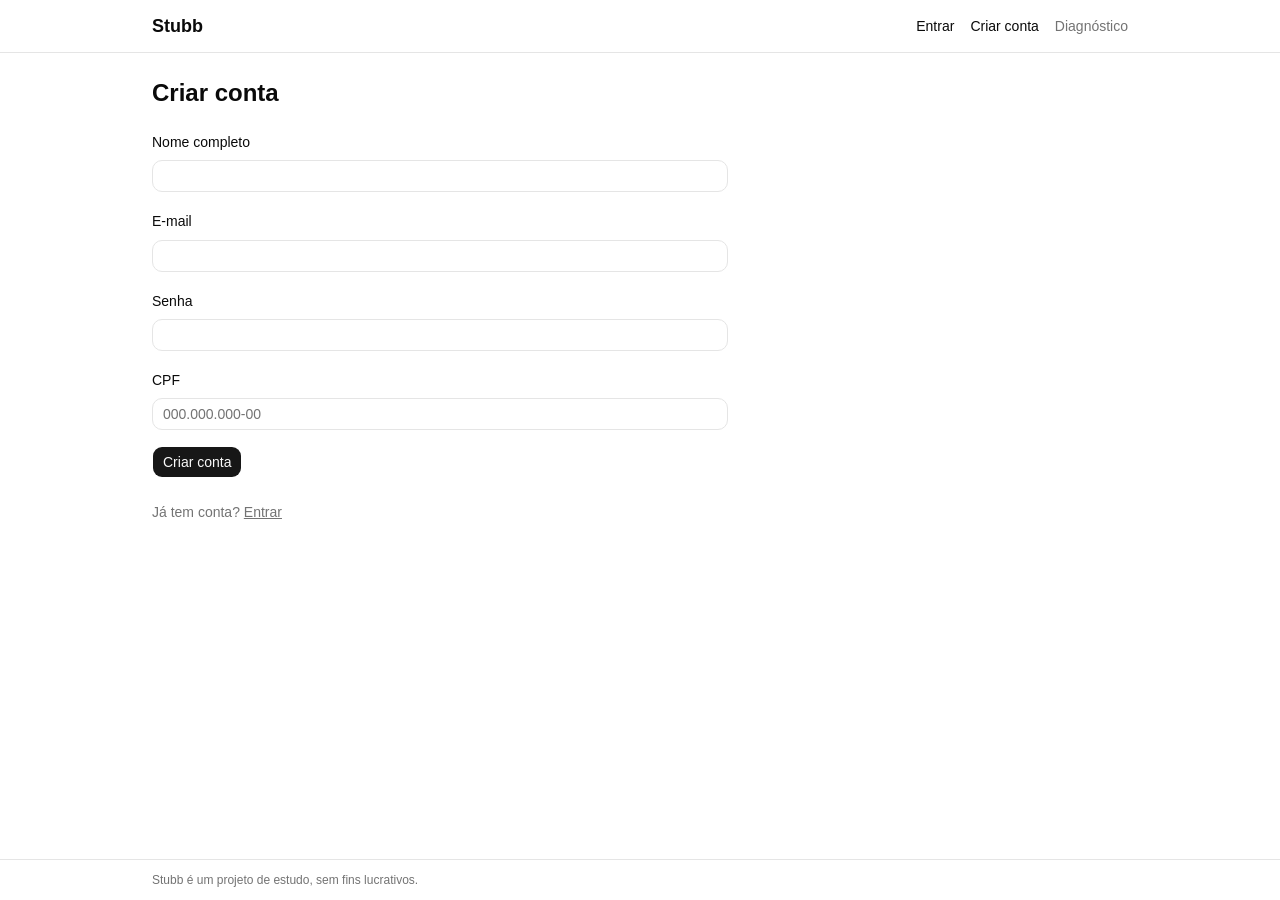
Test: RegisterPage › CPF inválido e senha curta ficam nos campos e nada é enviado
In the field labelled "Nome completo": x=440, y=176 [152,160,728,192], type "Ana Souza"
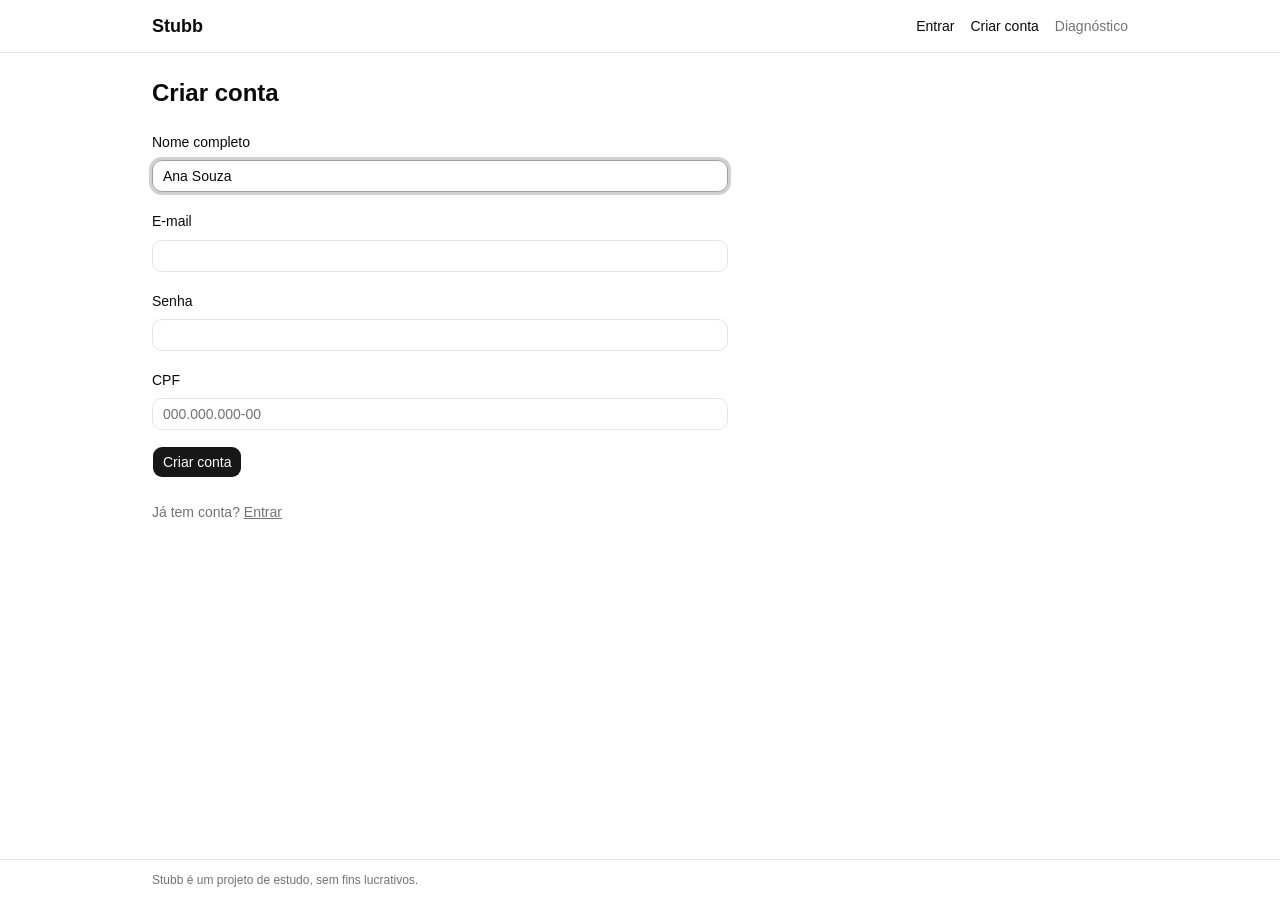
In the field labelled "E-mail": x=440, y=256 [152,240,728,272], type "Ana@Exemplo.com"
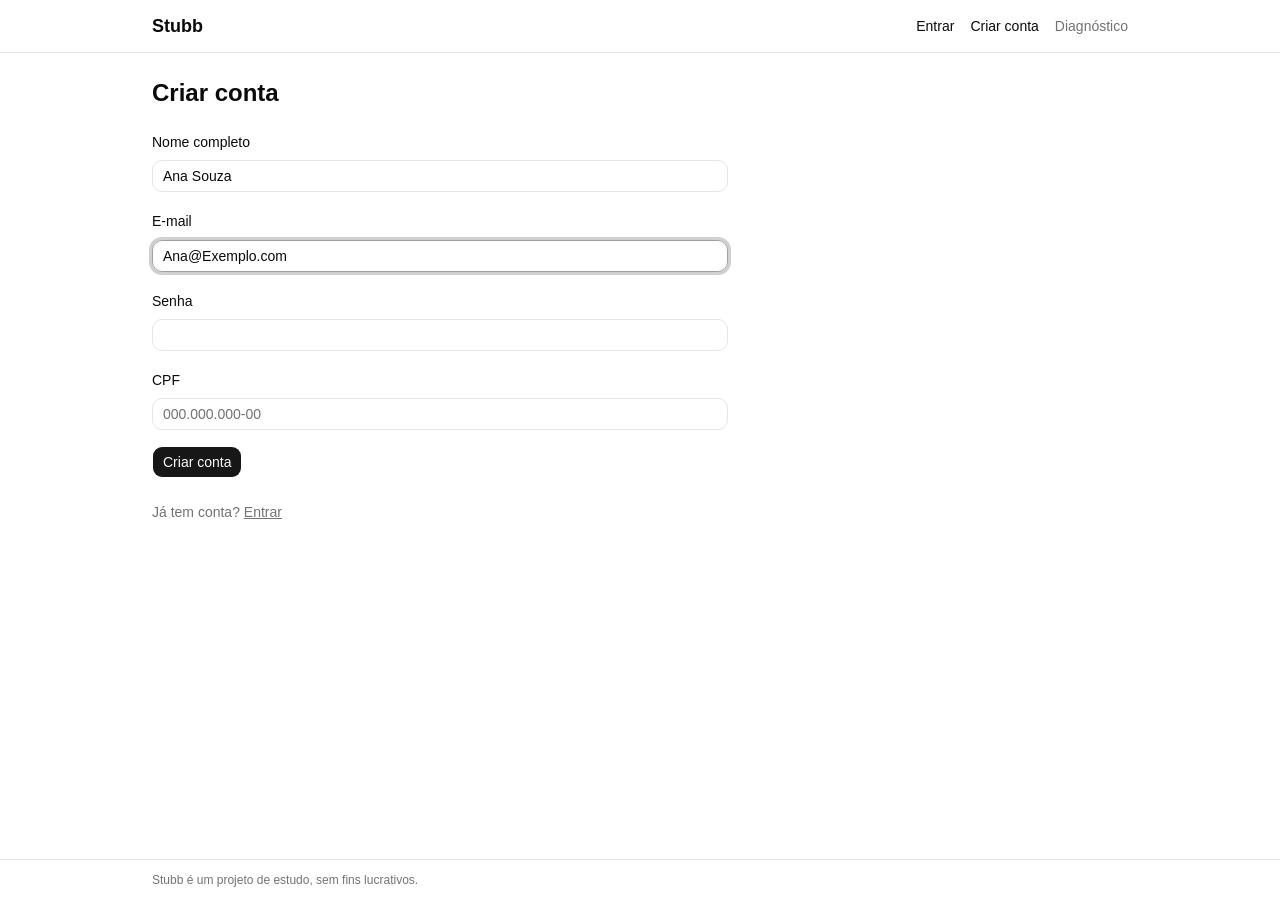
In the password field labelled "Senha": x=440, y=335 [152,319,728,351], type "curta"
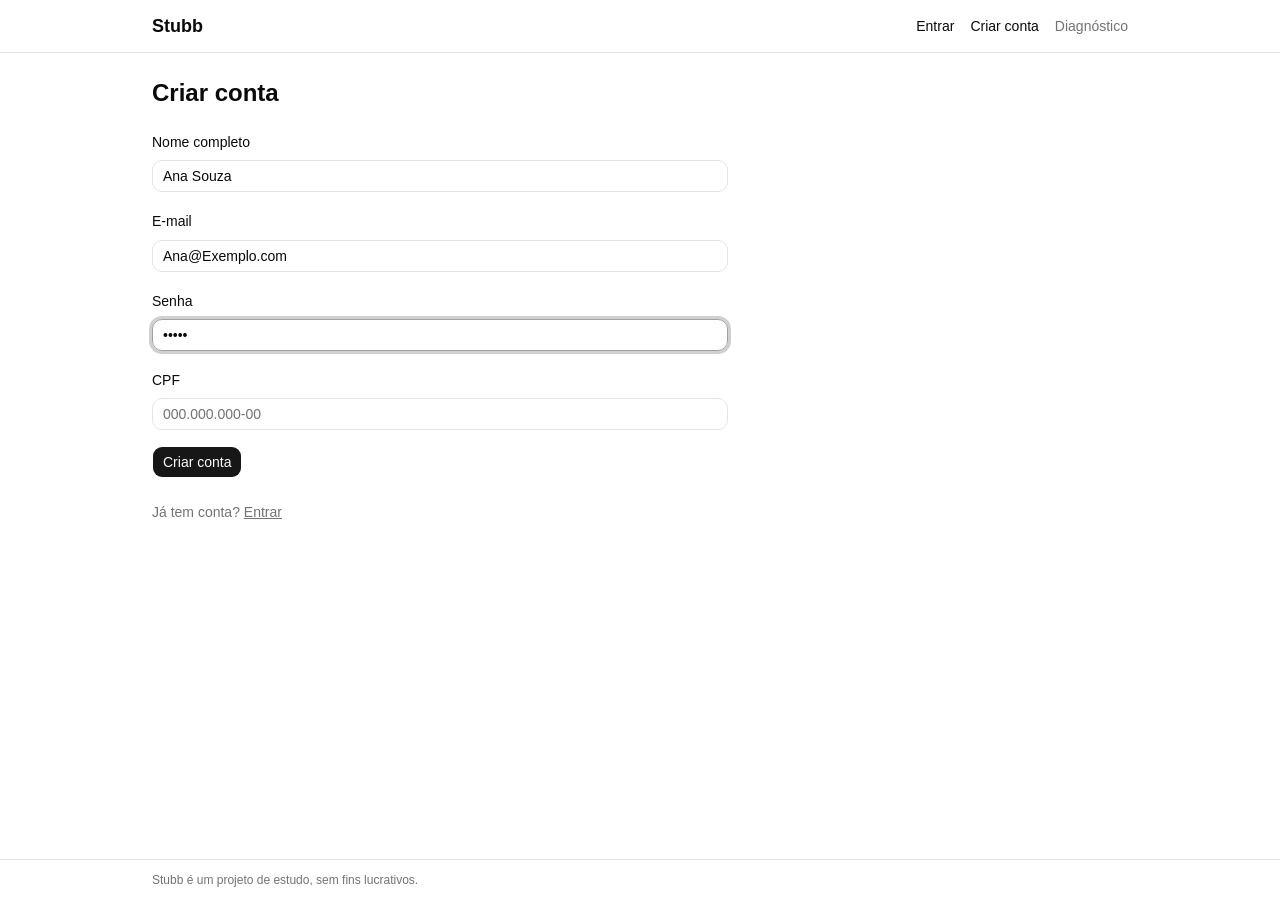
In the field labelled "CPF": x=440, y=414 [152,398,728,430], type "111.111.111-11"
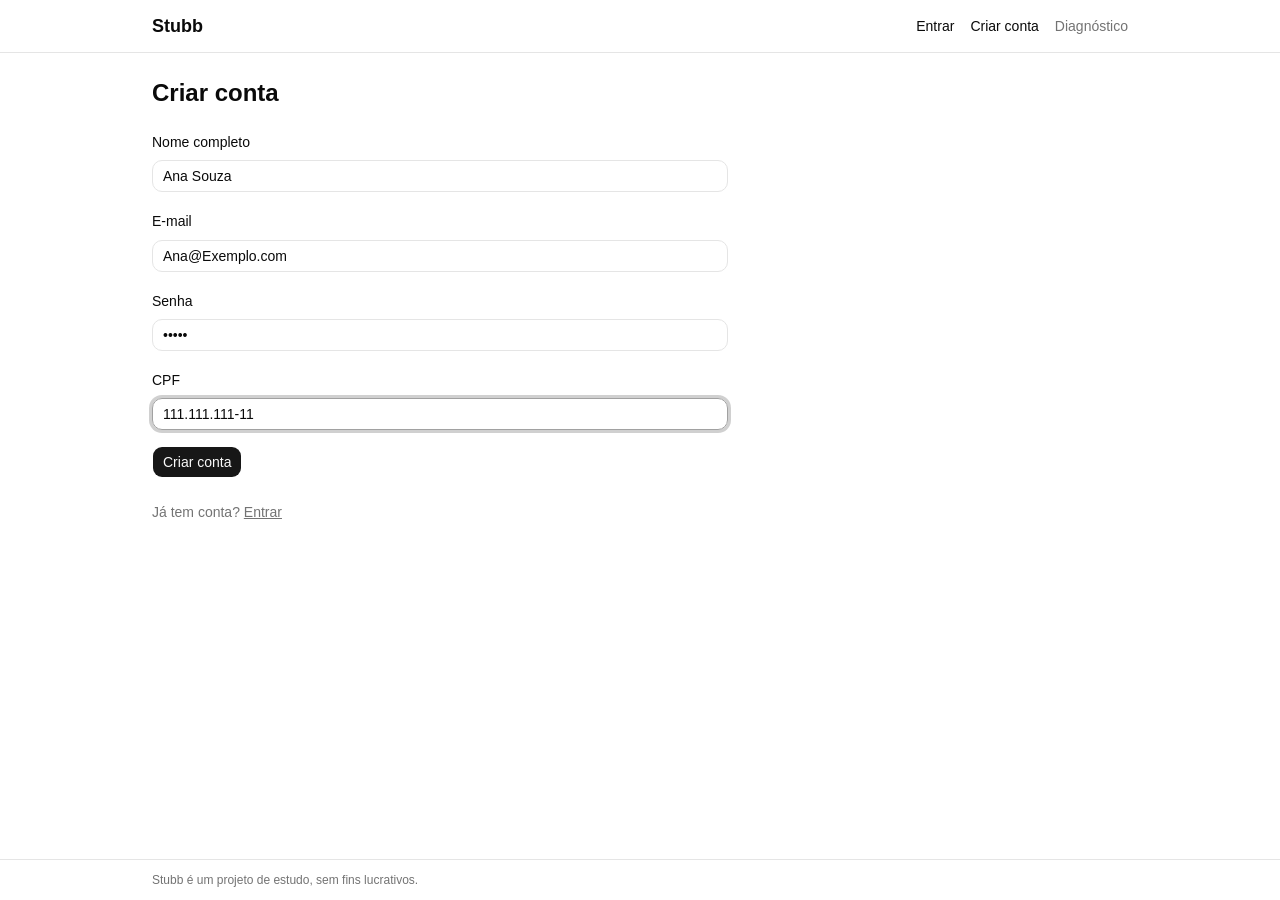
Click the button "Criar conta": x=197, y=462 [152,446,242,478]
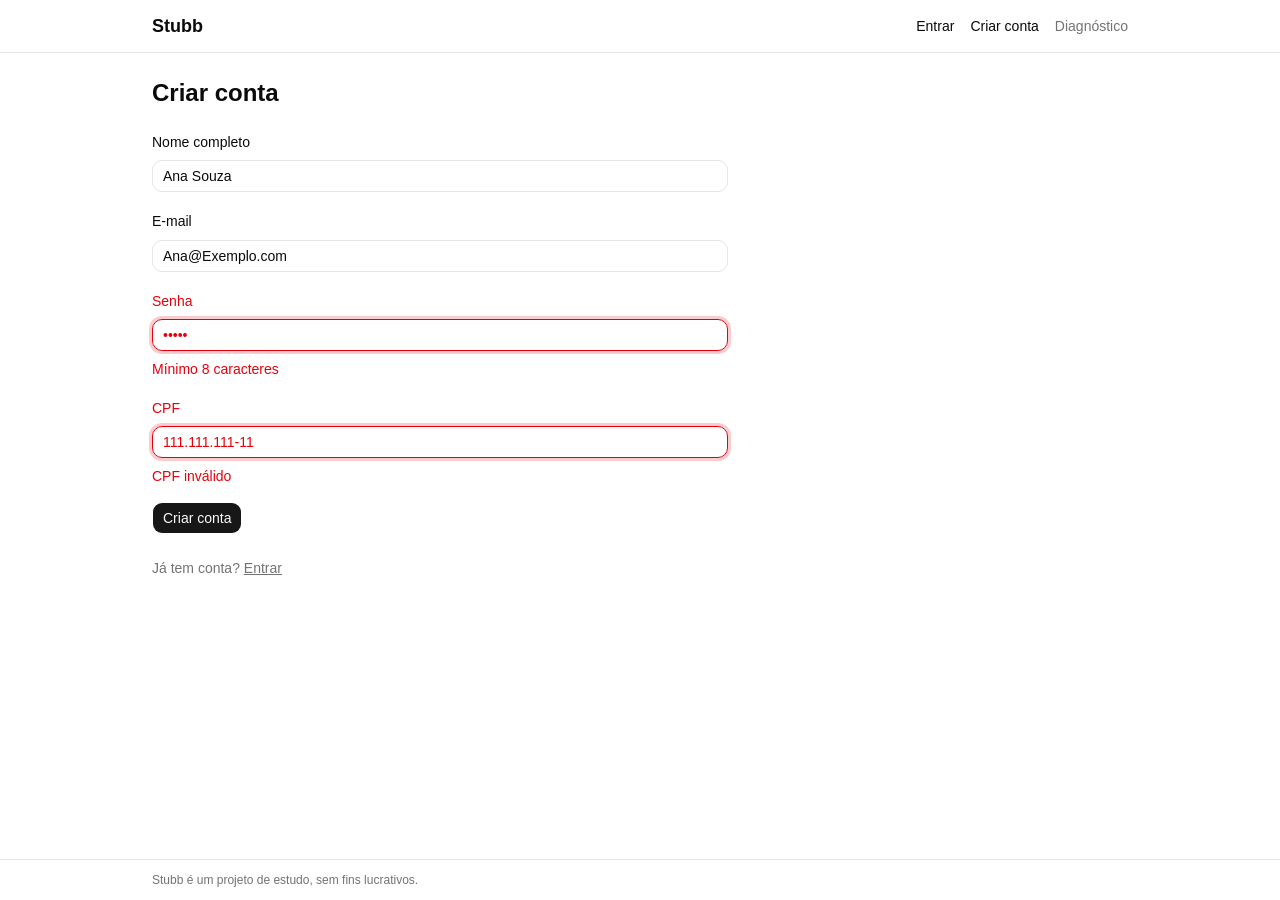
Now the text "CPF inválido" is shown, box [152,468,231,484]
Now the text "Mínimo 8 caracteres" is shown, box [152,361,279,377]
